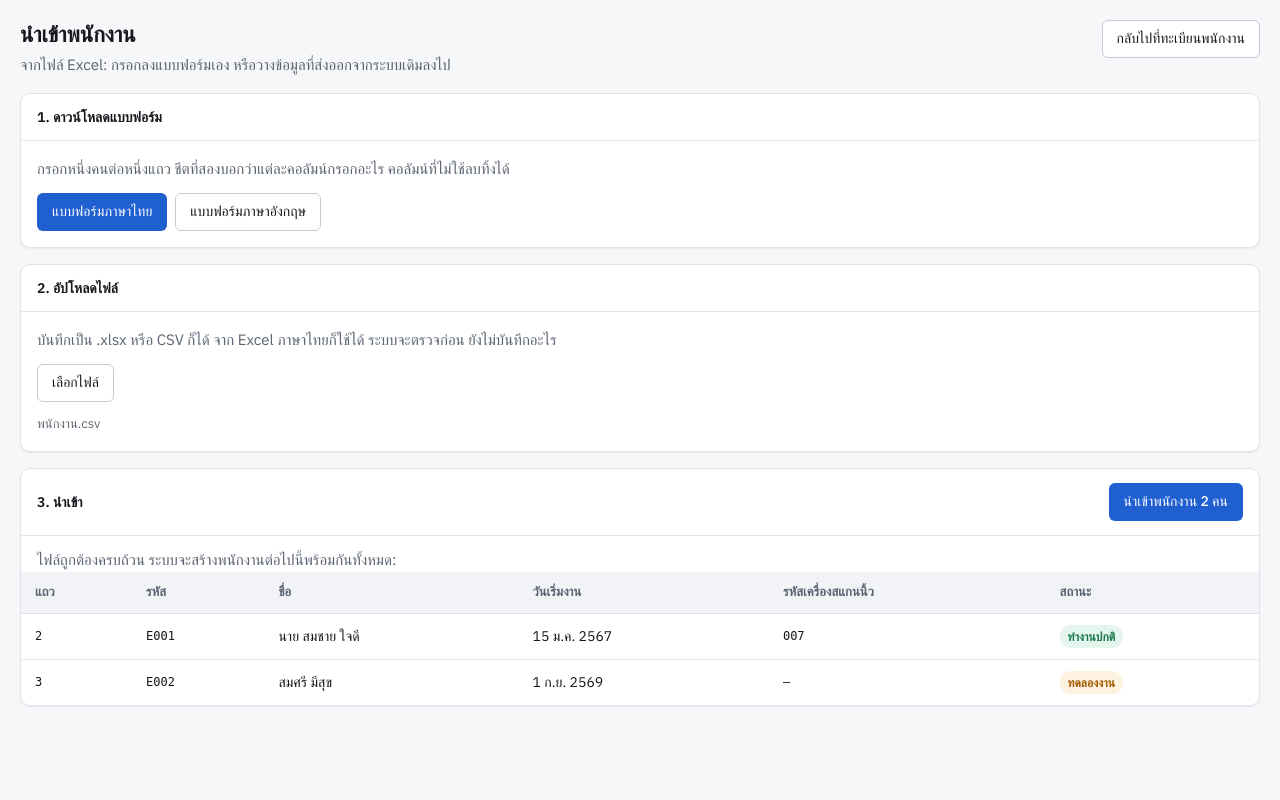
Test: Importing employees (CW-059) › shows what is wrong now when the import is refused on its second check
Earlier steps of the test are not shown.
Click the button "นำเข้าพนักงาน 2 คน" at (1176, 502), box top-left (1108, 483), bottom-right (1243, 521)
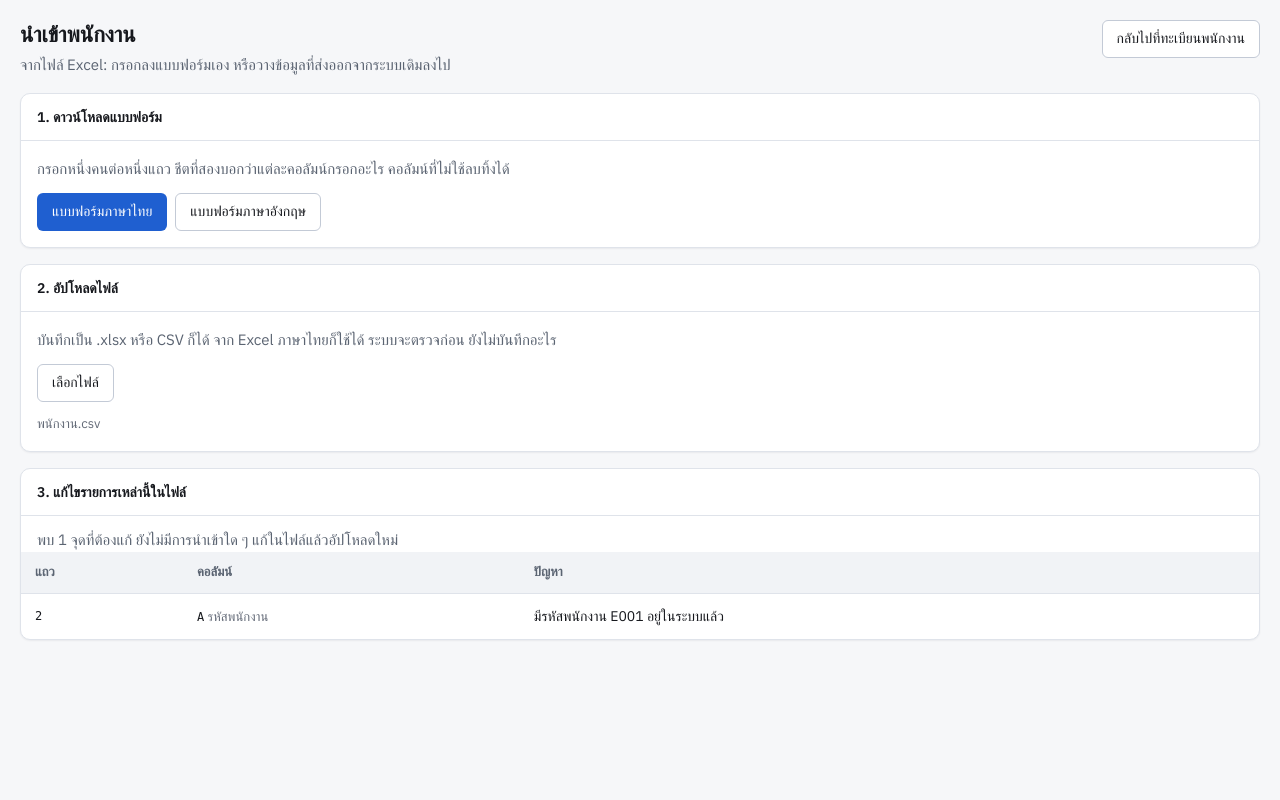
Check: the text "มีรหัสพนักงาน E001 อยู่ในระบบแล้ว" is shown, box top-left (520, 593), bottom-right (1259, 638)
